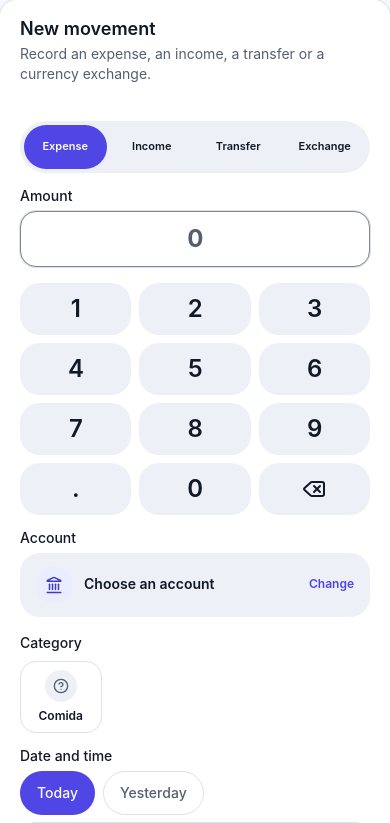
Test: the on-screen keypad of the movement form › uses the decimal point in English
Click the button "9" at (314, 429), box top-left (259, 403), bottom-right (370, 455)
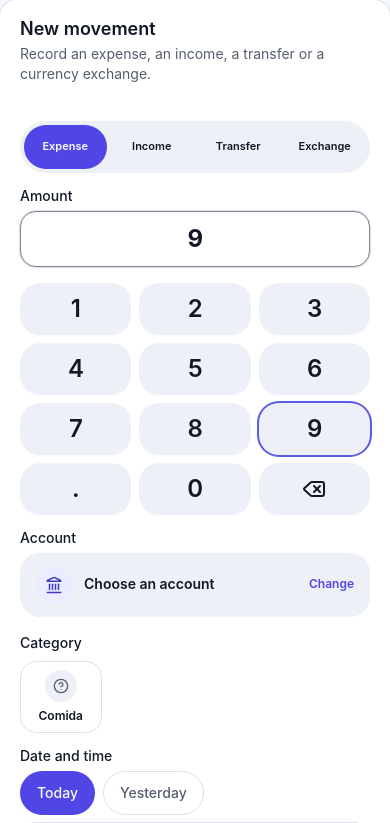
Click the button named "Decimal point" at (76, 489), box top-left (20, 463), bottom-right (131, 515)
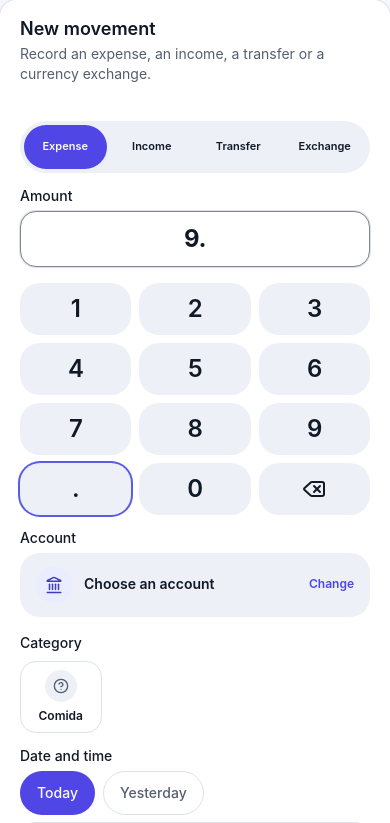
Click the button "5" at (195, 369), box top-left (139, 343), bottom-right (251, 395)
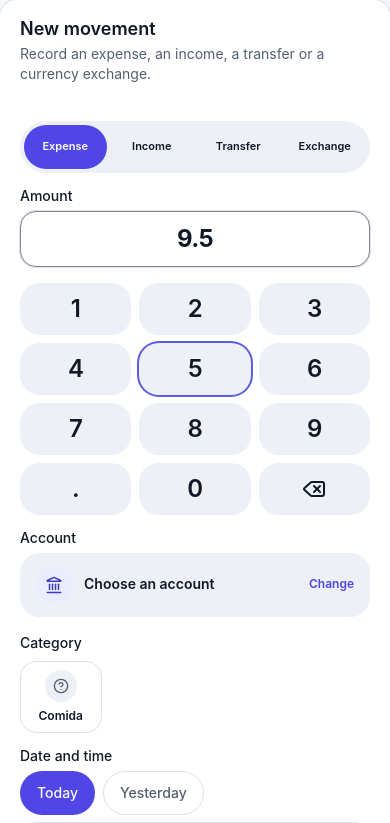
Expected: the field labelled "Amount" holds "9.5", top-left (20, 211), bottom-right (370, 267)
